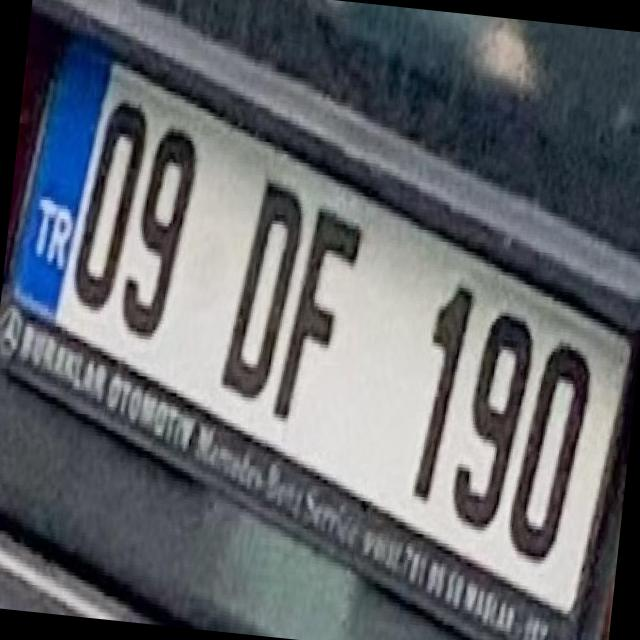0: (494, 324, 608, 571), (58, 78, 158, 324)
1: (389, 258, 484, 511)
9: (440, 292, 544, 538), (109, 104, 212, 344)
D: (203, 161, 315, 412)
F: (267, 188, 377, 435)
